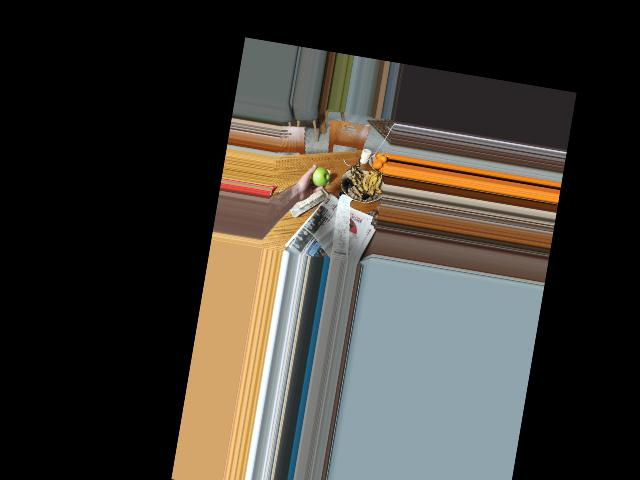apple: (306, 165, 331, 190)
